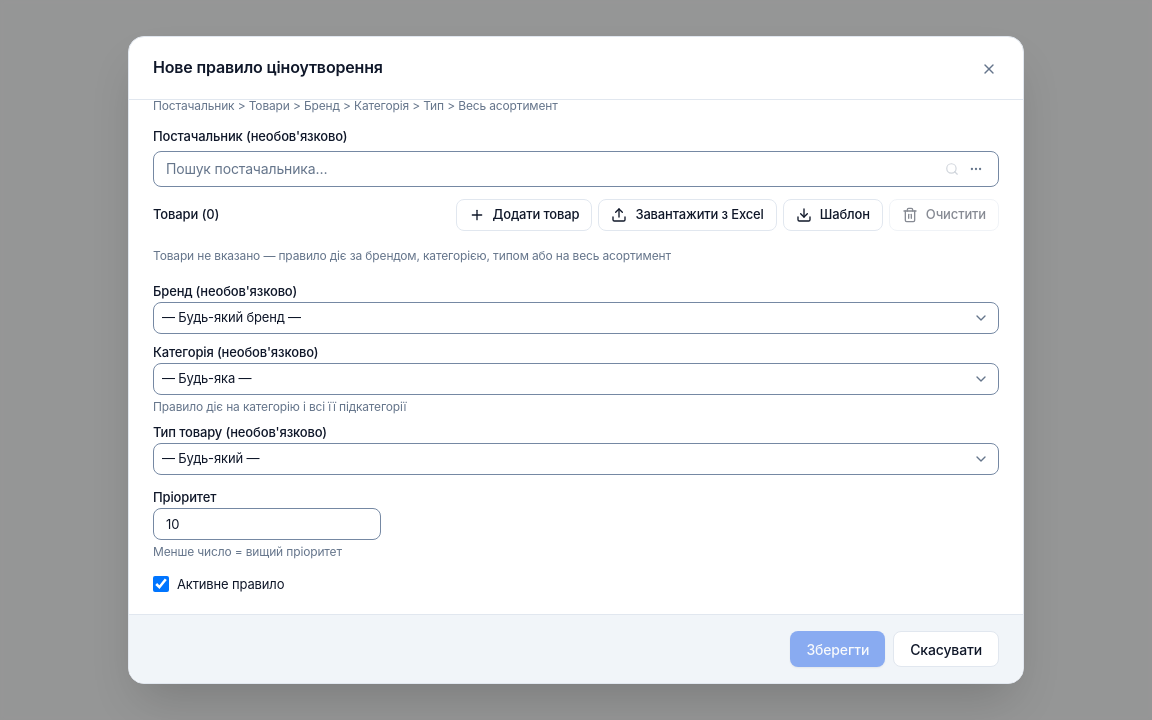
Scenario: RuleFormModal — категорія з довідника › обрано бренд → категорія і тип вимкнені; обрано категорію → вимкнено тип
(page scrolled)
Select "Мастила" in the dropdown labelled "Категорія (необов'язково)". click: (576, 378)
box: [153, 362, 999, 394]
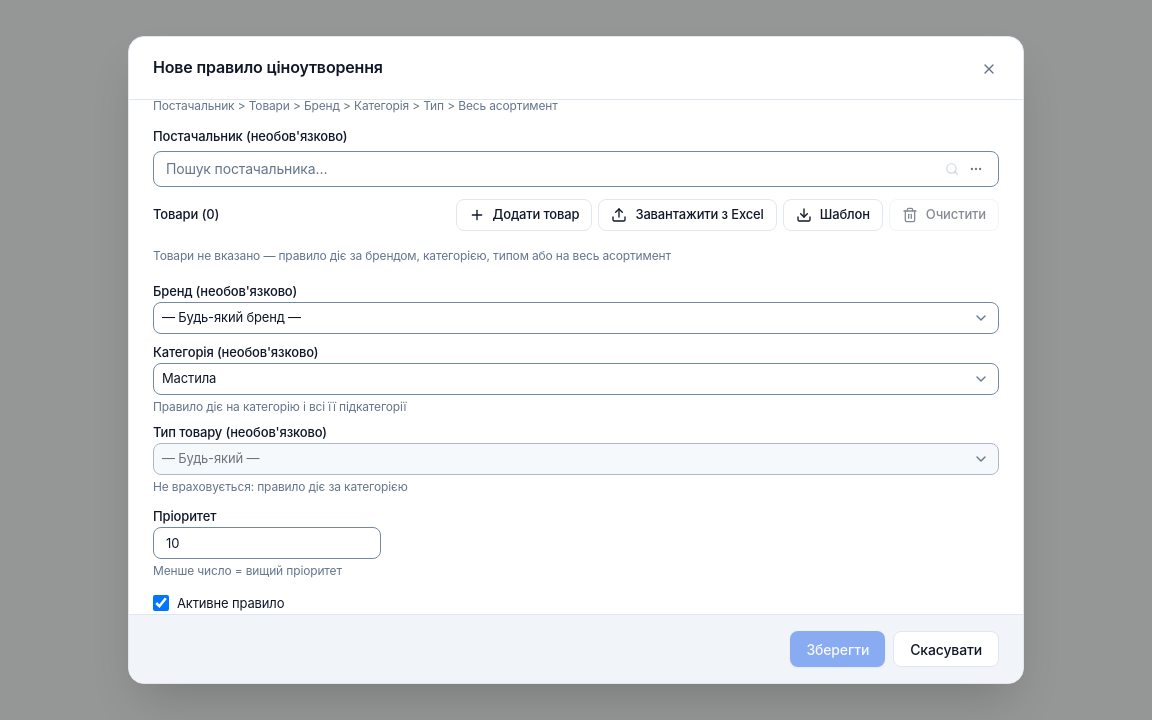
Result: the dropdown labelled "Тип товару (необов'язково)" is disabled at [153, 442, 999, 474]
Select "Bosch" in the dropdown labelled "Бренд (необов'язково)". click: (576, 318)
box: [153, 302, 999, 334]
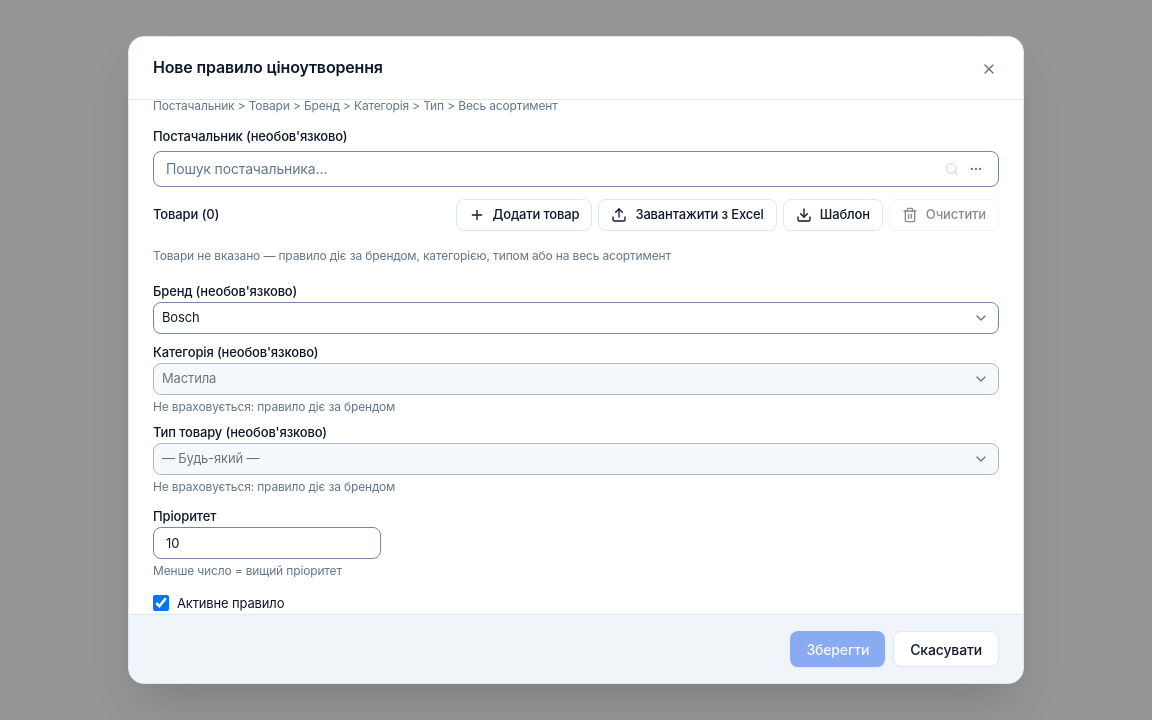
Result: the dropdown labelled "Тип товару (необов'язково)" is disabled at [153, 442, 999, 474]
Result: the dropdown labelled "Категорія (необов'язково)" is disabled at [153, 362, 999, 394]
